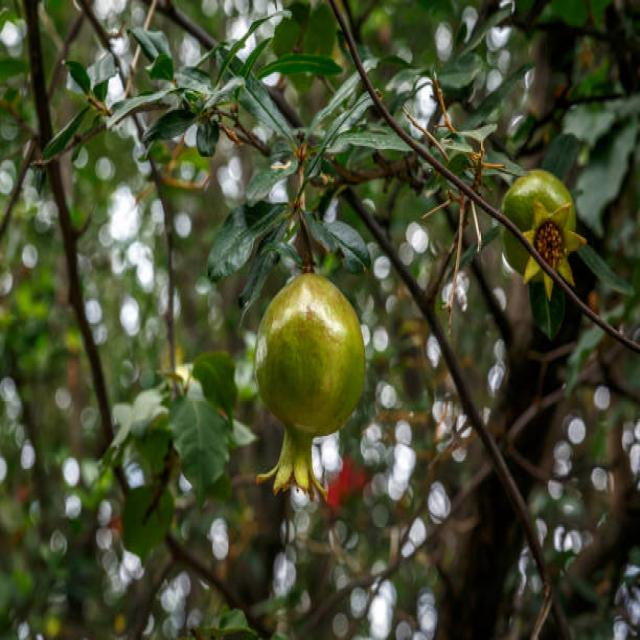Unripe: (253, 267, 363, 501), (500, 168, 586, 298)
